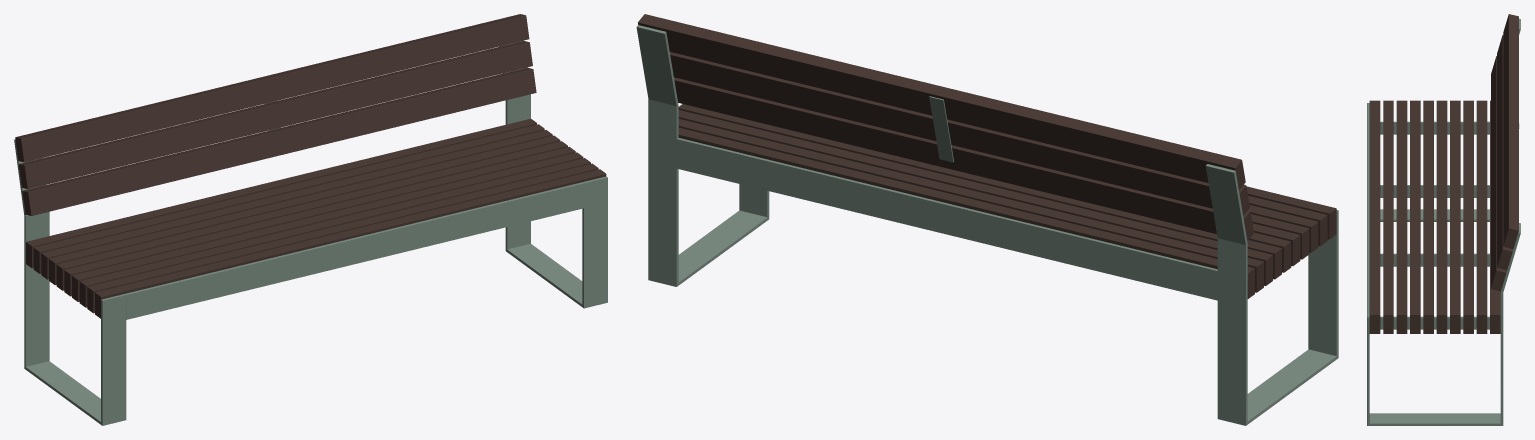
Rendered from G2_std.glb.
3 renders of one model, left to right at view 1: azimuth 30°, elevation 25°; view 2: azimuth 150°, elevation 25°; view 3: azimuth 270°, elevation 25°, orthographic. The views are drawn at different scales.
Visible parts, largest first — view 1: G2_std; view 2: G2_std; view 3: G2_std.
Part boxes in pixels (box(x1,y1,x2,y2)): G2_std: box(14, 14, 607, 425); G2_std: box(636, 14, 1338, 425); G2_std: box(1367, 14, 1520, 425).
Size of the model in its own units: 1.9 by 0.8176 by 0.576.
